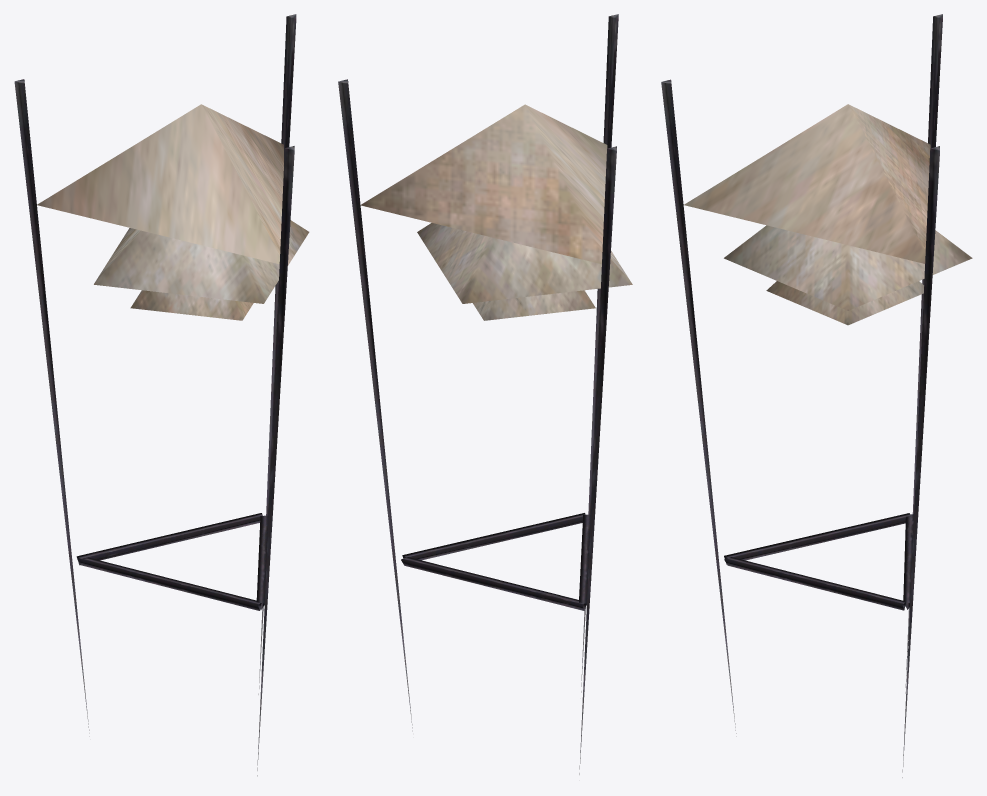
Rendered from frn_all_lamp_free_s2_l2.fbx.
3 views of the same model, side by side, from view 1: azimuth 30°, elevation 25°; view 2: azimuth 150°, elevation 25°; view 3: azimuth 270°, elevation 25° (orthographic).
Parts seen in each view (by area): view 1: mesh_node; view 2: mesh_node; view 3: mesh_node.
Boxes of the visible parts, bbox=[...] form: mesh_node: bbox=[14, 14, 309, 776]; mesh_node: bbox=[338, 14, 632, 774]; mesh_node: bbox=[661, 14, 972, 777].
Size of the model in its own units: 0.7964 by 1.79 by 0.7665.
